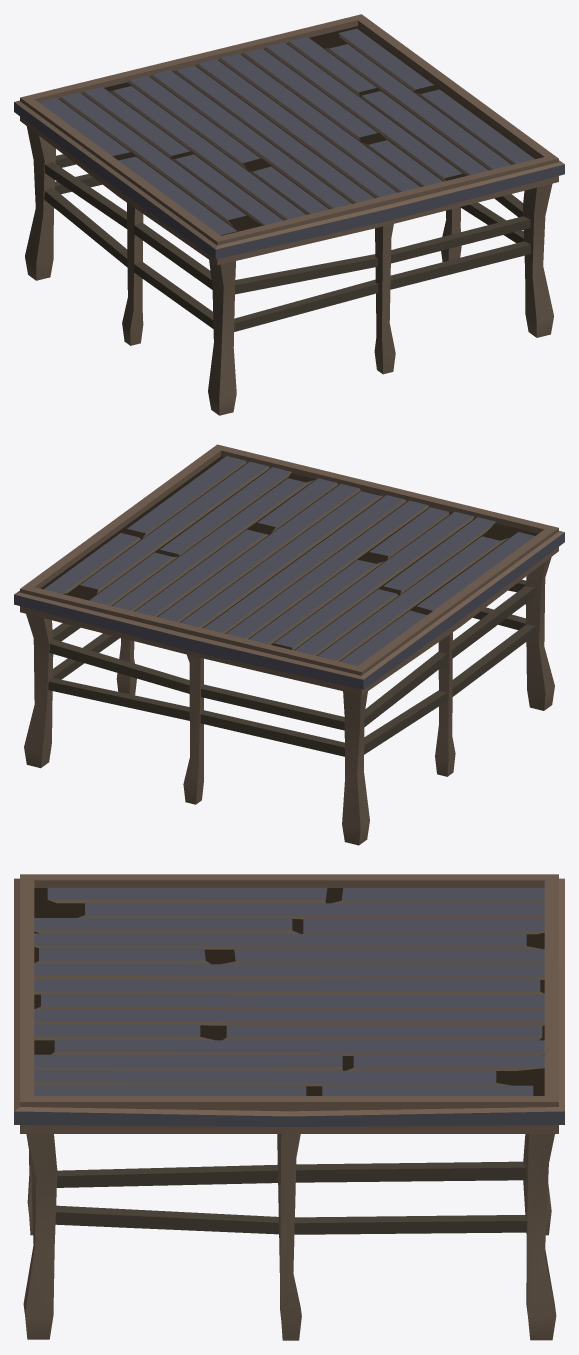
Rendered from SM_Bld_Shanty_Base_Stilts_02.glb.
3 views of the same model, one above another, from view 1: azimuth 30°, elevation 25°; view 2: azimuth 150°, elevation 25°; view 3: azimuth 270°, elevation 25° (orthographic). The views are drawn at different scales.
Visible parts, largest first — view 1: SM_Bld_Shanty_Base_Stilts_02; view 2: SM_Bld_Shanty_Base_Stilts_02; view 3: SM_Bld_Shanty_Base_Stilts_02.
Part boxes in pixels (x1=…): SM_Bld_Shanty_Base_Stilts_02: x1=14, y1=14, x2=564, y2=415; SM_Bld_Shanty_Base_Stilts_02: x1=14, y1=444, x2=564, y2=845; SM_Bld_Shanty_Base_Stilts_02: x1=14, y1=874, x2=564, y2=1340.
Size of the model in its own units: 0.0511 by 0.0247 by 0.0511.
